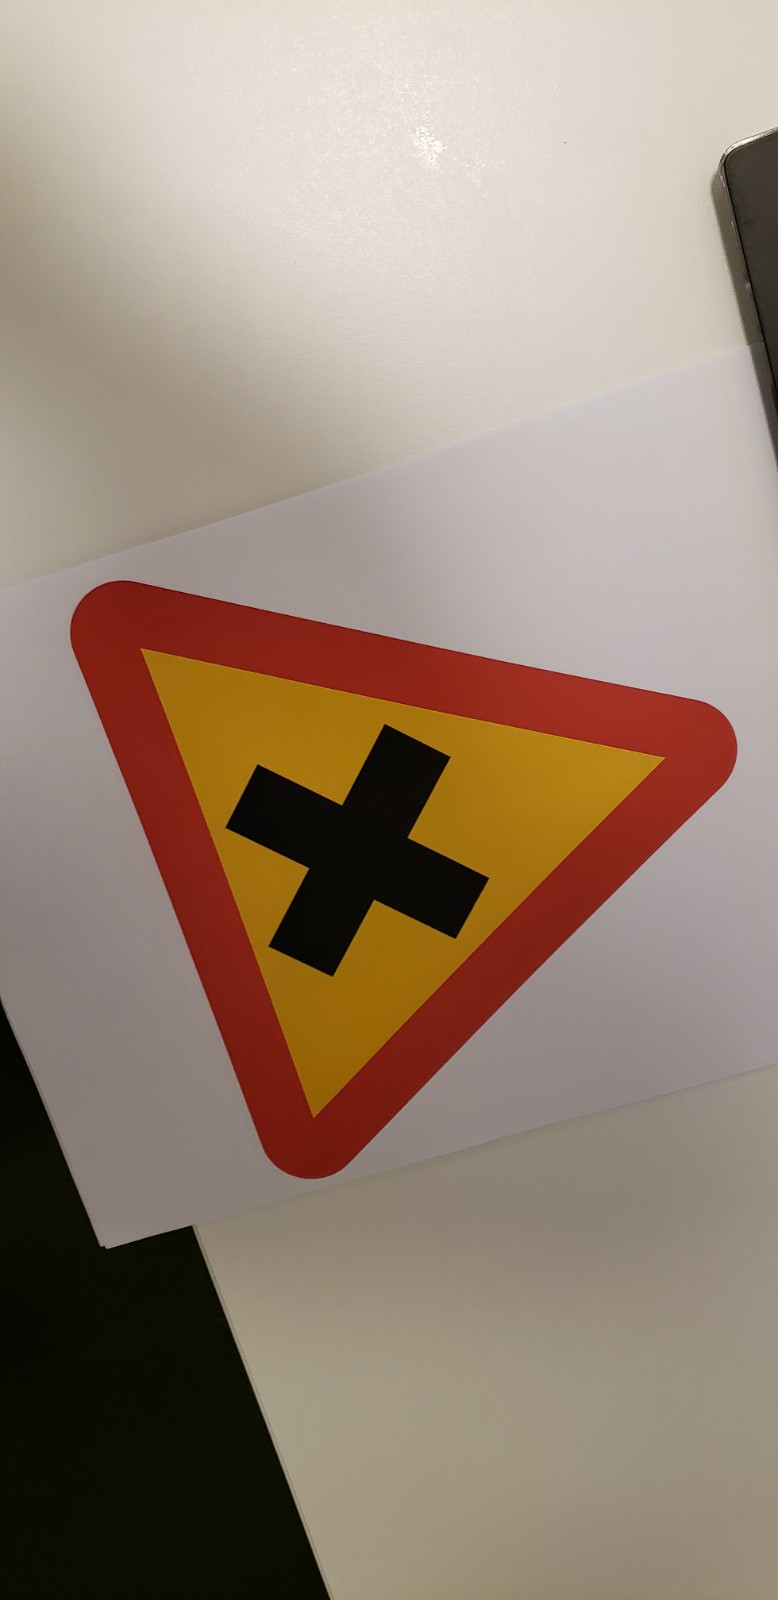junction: (62, 535, 743, 1227)
